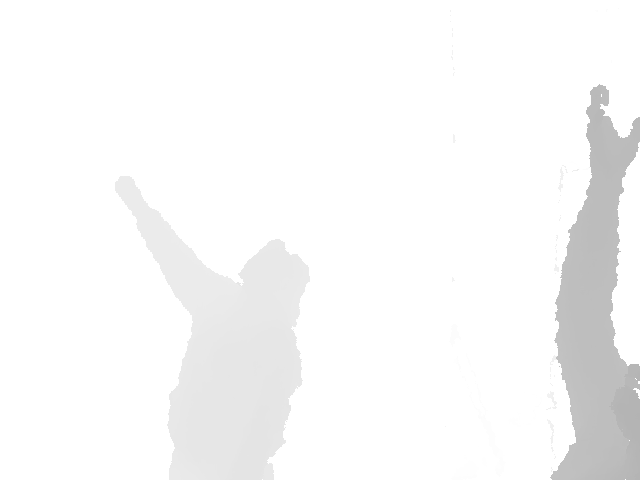hand: (584, 83, 640, 181), (113, 175, 149, 218)
head: (237, 239, 310, 304)
person: (112, 175, 311, 480), (549, 83, 640, 480)
